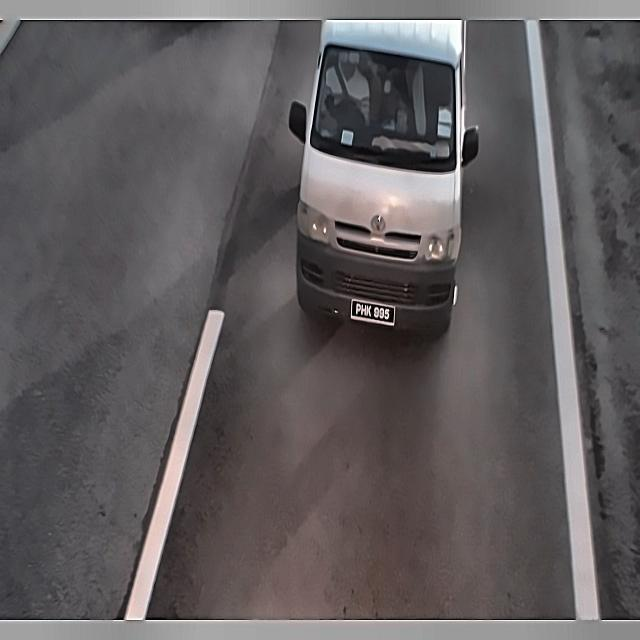car: (350, 294, 398, 330)
